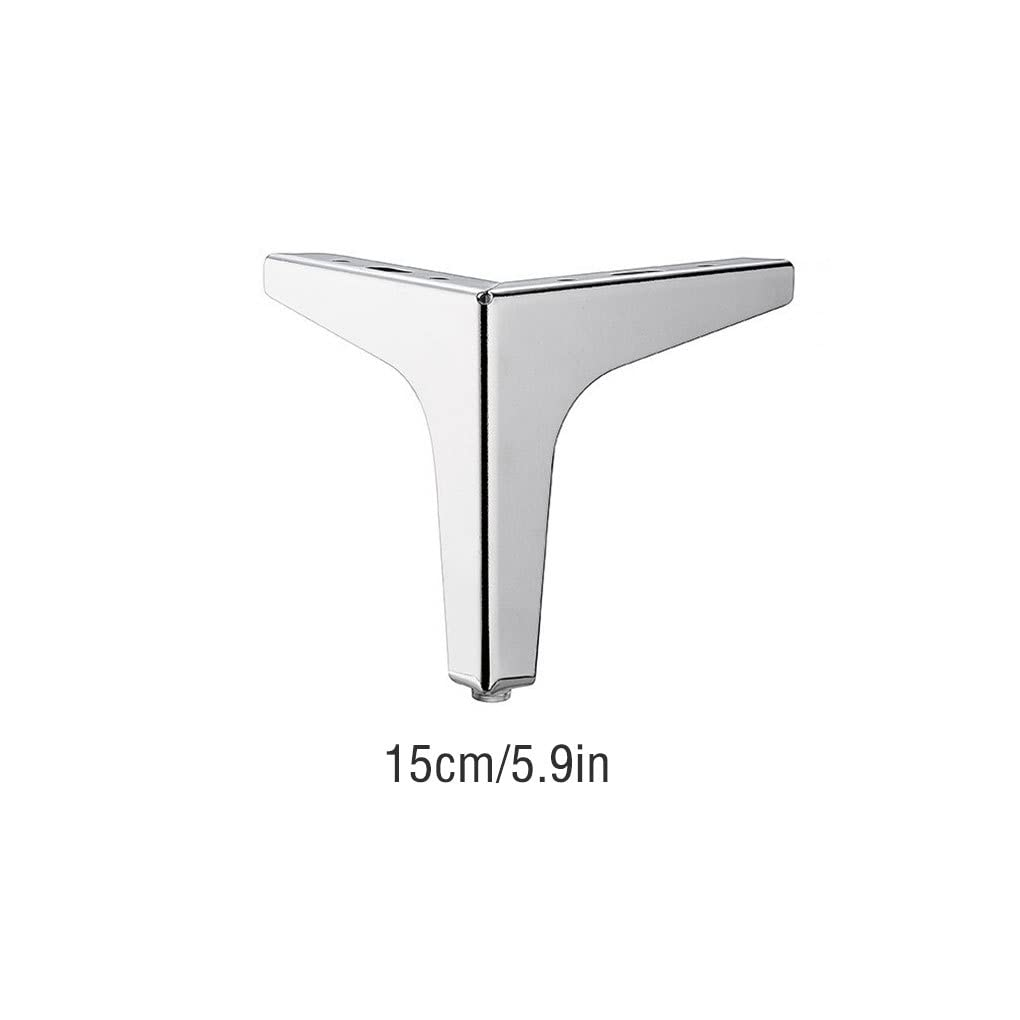15cm/5.9in: (386, 744, 608, 783)
